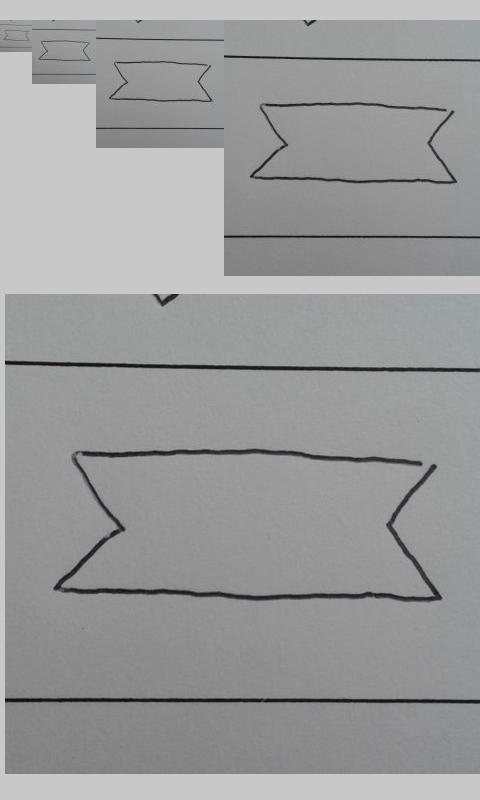edit_text: (52, 447, 441, 606), (250, 101, 457, 185), (109, 60, 213, 103), (38, 40, 91, 62), (3, 30, 29, 41)
